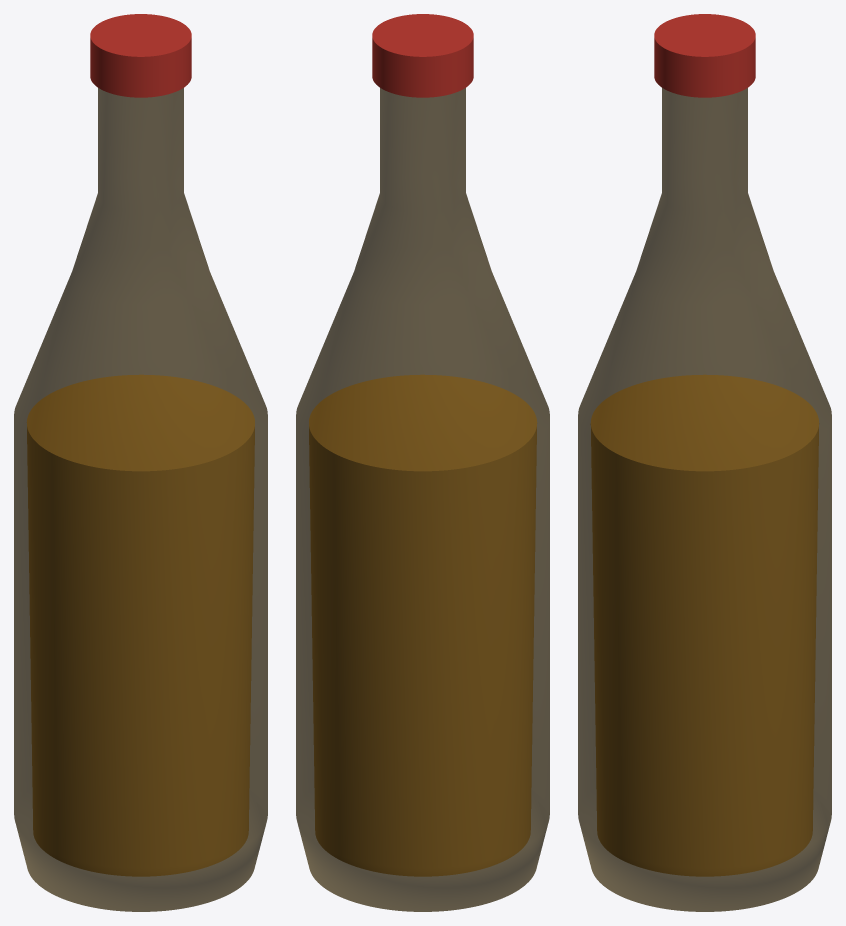
Rendered from garrafa-2-hero.glb.
The picture shows the model from 3 angles, left to right: view 1: azimuth 30°, elevation 25°; view 2: azimuth 150°, elevation 25°; view 3: azimuth 270°, elevation 25°; orthographic projection.
Size of the model in its own units: 0.062 by 0.2233 by 0.062.
